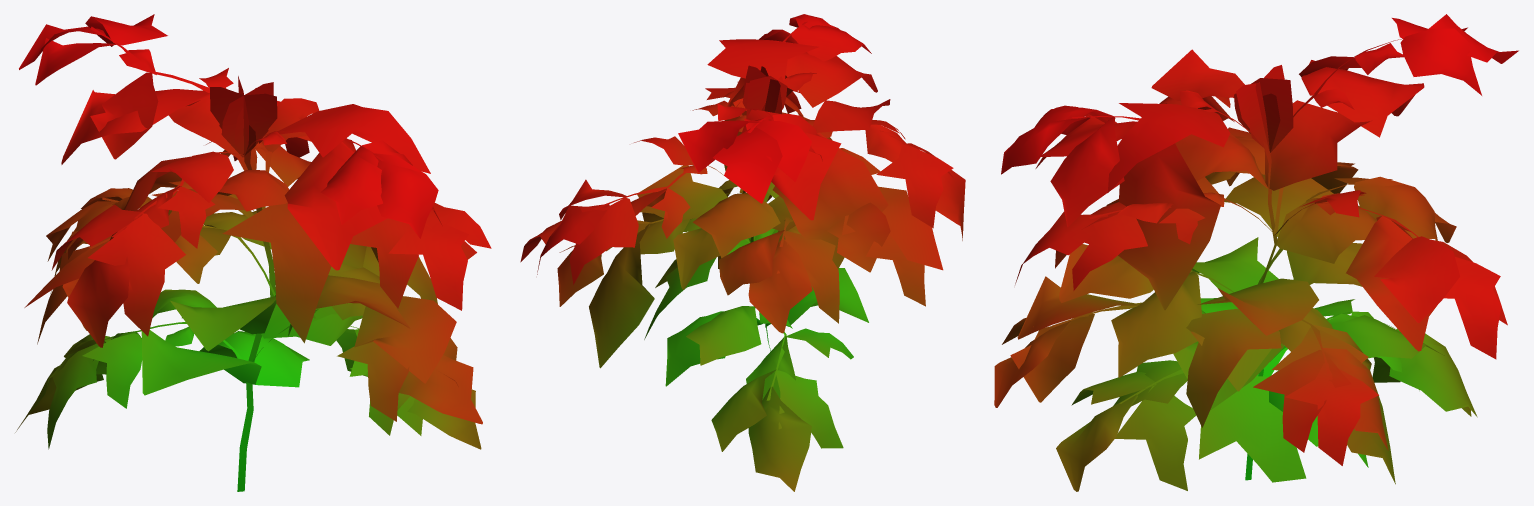
File: Var3_LOD3.fbx
3 renders of one model, left to right at view 1: azimuth 30°, elevation 25°; view 2: azimuth 150°, elevation 25°; view 3: azimuth 270°, elevation 25°, orthographic. The views are drawn at different scales.
Visible parts, largest first — view 1: _l4ev_Var3_LOD3; view 2: _l4ev_Var3_LOD3; view 3: _l4ev_Var3_LOD3.
Part boxes in pixels (box(x1,y1,x2,y2)): _l4ev_Var3_LOD3: box(15, 14, 491, 491); _l4ev_Var3_LOD3: box(520, 14, 965, 491); _l4ev_Var3_LOD3: box(994, 14, 1518, 491).
Bounding box in the file's own units: 104 × 88.73 × 98.77.
